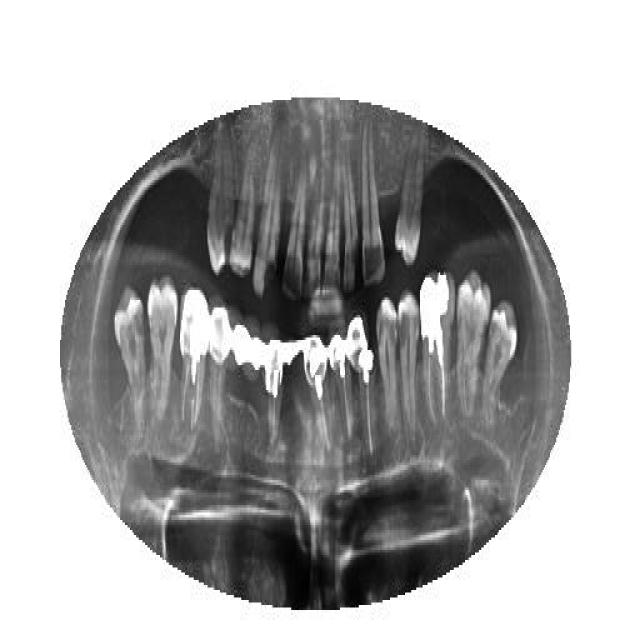Cavity: (206, 135, 236, 275), (254, 153, 280, 305)
Fillings: (208, 298, 228, 440), (242, 310, 262, 382), (225, 305, 244, 375), (280, 340, 304, 372)
Implant: (420, 270, 456, 428), (347, 310, 378, 460), (178, 285, 208, 435), (302, 332, 332, 452), (327, 332, 352, 442), (264, 332, 281, 448)
